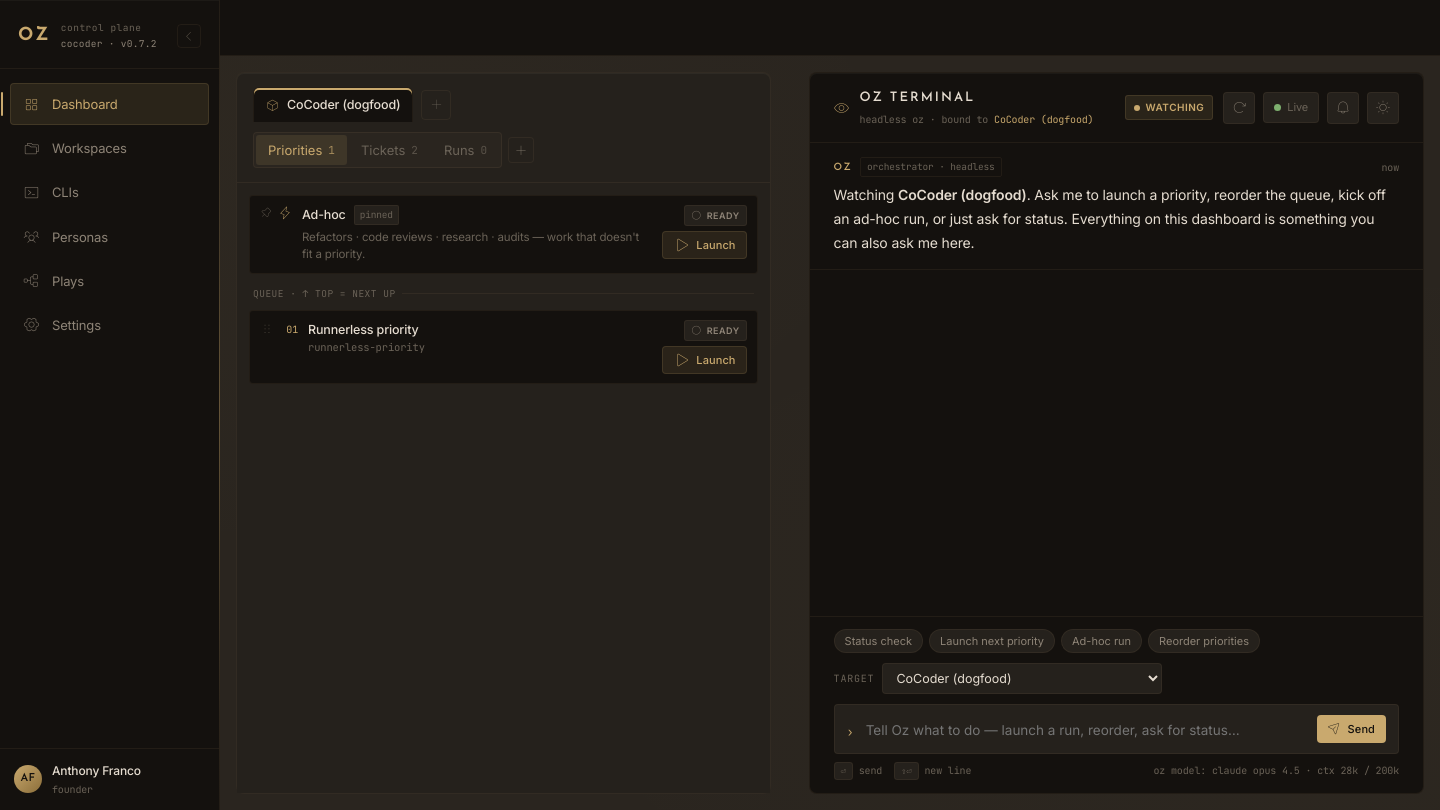
it: Oz renderer — live daemon path › runnerless handoff-required refusal renders a manual command instead of a launch error
The width and height of the screenshot is (1440, 810).
Check: the text "Live" is shown, box left=1287, top=98, right=1308, bottom=117
Click the button "Launch" in the row of "runnerless-priority": (704, 360) left=662, top=346, right=747, bottom=374
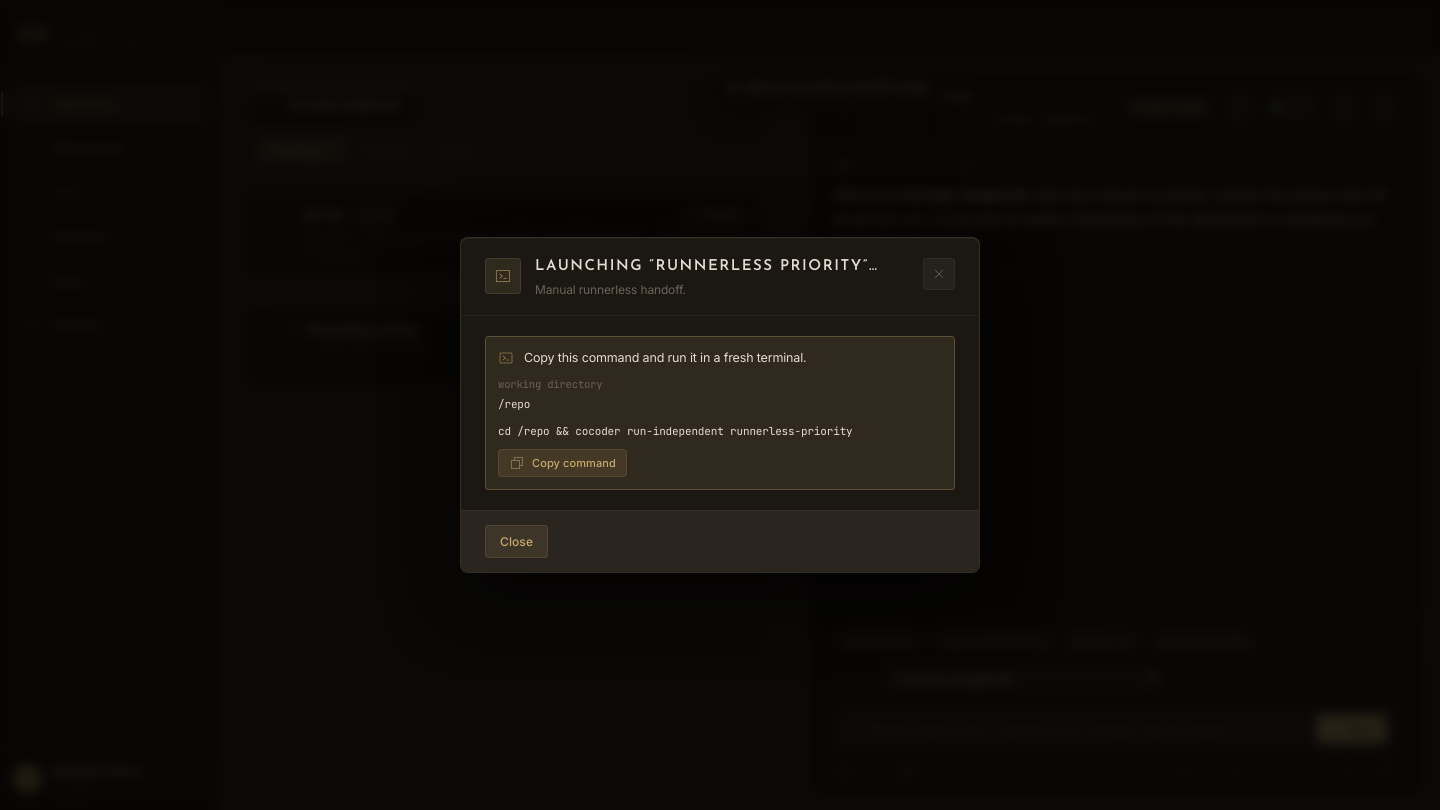
Check: the text "Copy this command and run it in a fresh terminal." is shown, box left=524, top=350, right=806, bottom=365
Check: the message is shown, box left=485, top=336, right=955, bottom=490
Check: the text "cd /repo && cocoder run-independent runnerless-priority" is shown, box left=498, top=424, right=852, bottom=438
